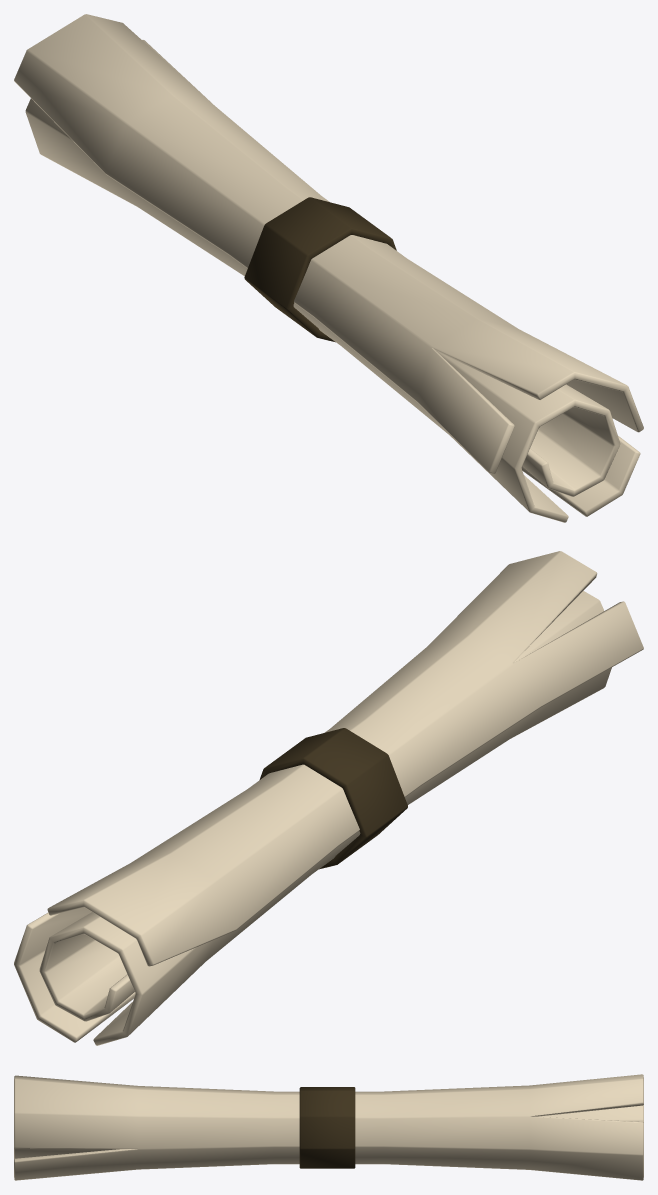
File: map.fbx
3 views of the same model, one above another, from view 1: azimuth 30°, elevation 25°; view 2: azimuth 150°, elevation 25°; view 3: azimuth 270°, elevation 25° (orthographic). The views are drawn at different scales.
Visible parts, largest first — view 1: map, map_cord; view 2: map, map_cord; view 3: map, map_cord.
Part boxes in pixels (box(x1,y1,x2,y2)): map: box(14, 14, 643, 522); map_cord: box(244, 197, 396, 342); map: box(14, 551, 643, 1045); map_cord: box(259, 728, 407, 869); map: box(14, 1074, 643, 1180); map_cord: box(299, 1087, 355, 1168).
Size of the model in its own units: 7.45 by 6.73 by 40.15.
